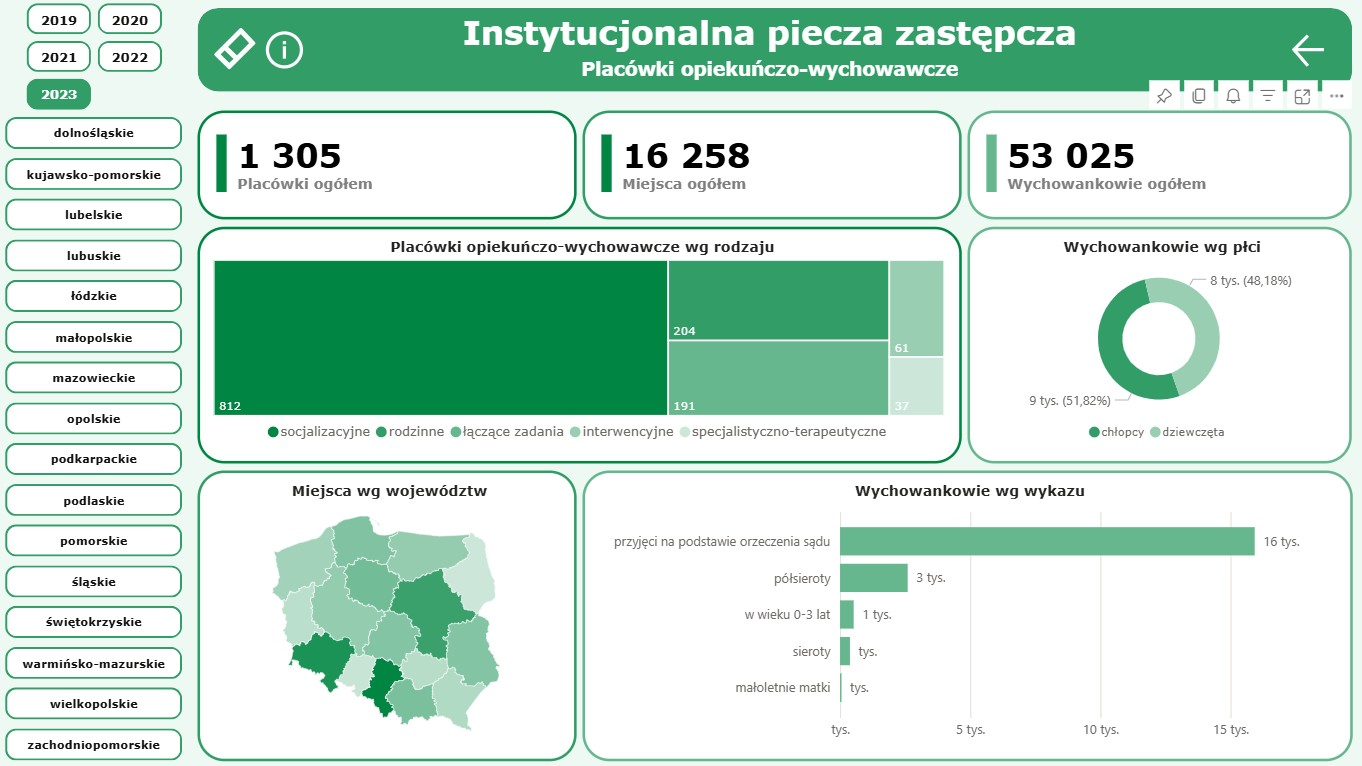

The page's visual inventory and layout, read from the dashboard file:
{"tool":"powerbi","page":{"name":"Instytucjonalna piecza zastępcza","canvas":[1280,720],"ordinal":3},"visuals":[{"type":"advancedSlicerVisual","fields":{"Values":["Rok.Rok"]},"box":[0,0,176.2,110],"z":0},{"type":"advancedSlicerVisual","fields":{"Values":["Wojewodztwa.Nazwa"]},"box":[0,106.6,175.5,613.4],"z":1000},{"type":"shape","box":[184,9,1077,78],"z":1500,"group":"g1"},{"type":"textbox","title":"Instytucjonalna piecza zastępcza","box":[234.1,12.6,967.2,73.4],"z":2000,"group":"g1"},{"type":"group","id":"g1","title":"Grupa 1","box":[184,9,1077,78],"z":3000},{"type":"multiRowCard","fields":{"Values":["Sum(InstytucjonalnaPlacMjsc.miejsca)"]},"box":[543,104.9,353.7,101.9],"z":3000},{"type":"multiRowCard","fields":{"Values":["Sum(InstytucjonalnaPlacMjsc.placówki)"]},"box":[183.9,104.9,353.7,101.9],"z":4000},{"type":"multiRowCard","fields":{"Values":["Sum(InstytucjonalnaWychowankowie.Wartosc)"]},"box":[902.3,104.9,358.7,101.9],"z":5000},{"type":"clusteredBarChart","title":"Wychowankowie wg wykazu","fields":{"Category":["TypWychowankowie.typ"],"Y":["Sum(InstytucjonalnaWychowankowie.Wartosc)"]},"box":[543.2,441.1,718.1,271.1],"z":6000},{"type":"donutChart","title":"Wychowankowie wg płci","fields":{"Y":["Sum(InstytucjonalnaWychowankowie.Wartosc)"],"Category":["TypWychowankowie.typ"]},"box":[902.8,213.2,358.6,221],"z":7000},{"type":"treemap","title":"Placówki opiekuńczo-wychowawcze wg rodzaju","fields":{"Values":["Sum(InstytucjonalnaPlacMjsc.placówki)"],"Group":["RodzajePlacówek.Rodzaj"]},"box":[183.7,213.2,713.2,221],"z":8000},{"type":"shapeMap","title":"Miejsca wg województw","fields":{"Value":["Sum(InstytucjonalnaPlacMjsc.miejsca)"],"Category":["Wojewodztwa.Nazwa"]},"box":[183.7,441.1,353.6,271.1],"z":9000},{"type":"actionButton","box":[242.2,25.6,45.6,45.6],"z":12000},{"type":"actionButton","box":[195.6,23.3,46.7,47.8],"z":13000},{"type":"actionButton","box":[1201.1,28.9,41.1,40],"z":13001}]}

Visuals, with their boxes on the page's 1280x720 design canvas (x1, y1, x2, y2). These are canvas units, not pixel positions in the 1362x766 screenshot, which may show the page scaled, cropped or inside an application window:
advancedSlicerVisual - Rok.Rok: 0:0:176:110
advancedSlicerVisual - Wojewodztwa.Nazwa: 0:107:176:720
shape: 184:9:1261:87
"Instytucjonalna piecza zastępcza" textbox: 234:13:1201:86
"Grupa 1" group: 184:9:1261:87
multiRowCard - Sum(InstytucjonalnaPlacMjsc.miejsca): 543:105:897:207
multiRowCard - Sum(InstytucjonalnaPlacMjsc.placówki): 184:105:538:207
multiRowCard - Sum(InstytucjonalnaWychowankowie.Wartosc): 902:105:1261:207
"Wychowankowie wg wykazu" clusteredBarChart: 543:441:1261:712
"Wychowankowie wg płci" donutChart: 903:213:1261:434
"Placówki opiekuńczo-wychowawcze wg rodzaju" treemap: 184:213:897:434
"Miejsca wg województw" shapeMap: 184:441:537:712
actionButton: 242:26:288:71
actionButton: 196:23:242:71
actionButton: 1201:29:1242:69
